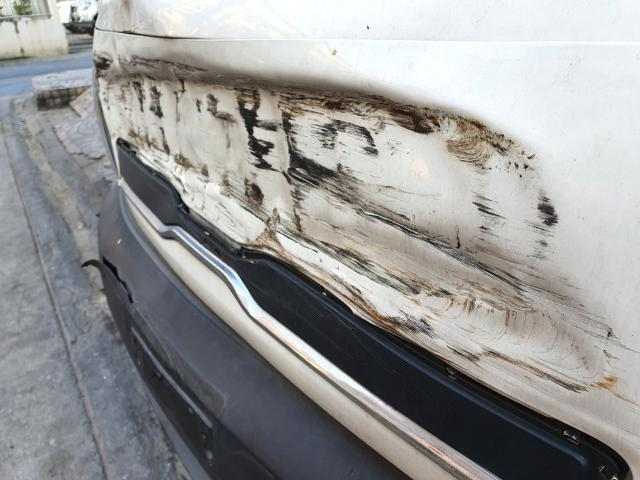crack: (100, 254, 135, 306)
scratch: (99, 52, 611, 394)
